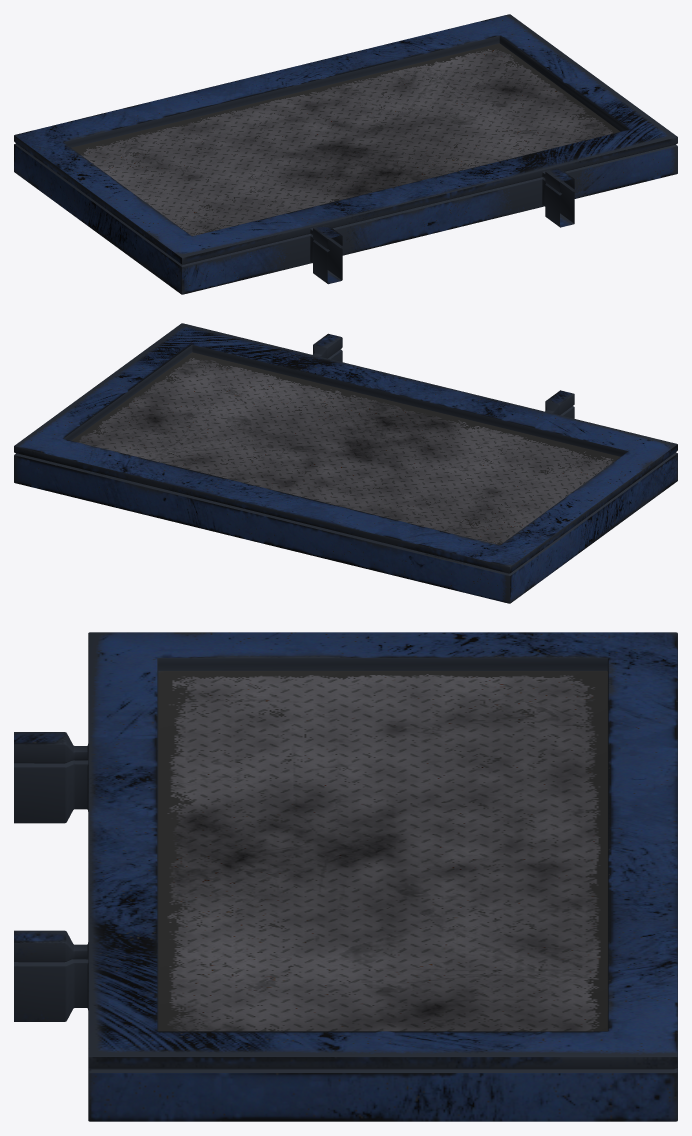
Rendered from platform.gltf.
The picture shows the model from 3 angles, top to bottom: view 1: azimuth 30°, elevation 25°; view 2: azimuth 150°, elevation 25°; view 3: azimuth 270°, elevation 25°; orthographic projection. The views are drawn at different scales.
Visible parts, largest first — view 1: platform; view 2: platform; view 3: platform.
Part boxes in pixels (x1,y1,x2,y2): platform: (14, 14, 677, 294); platform: (14, 323, 677, 603); platform: (14, 632, 677, 1121).
Bounding box in the file's own units: 2.69 × 0.2351 × 1.77.
Materials: 1 (1 with a texture image).
